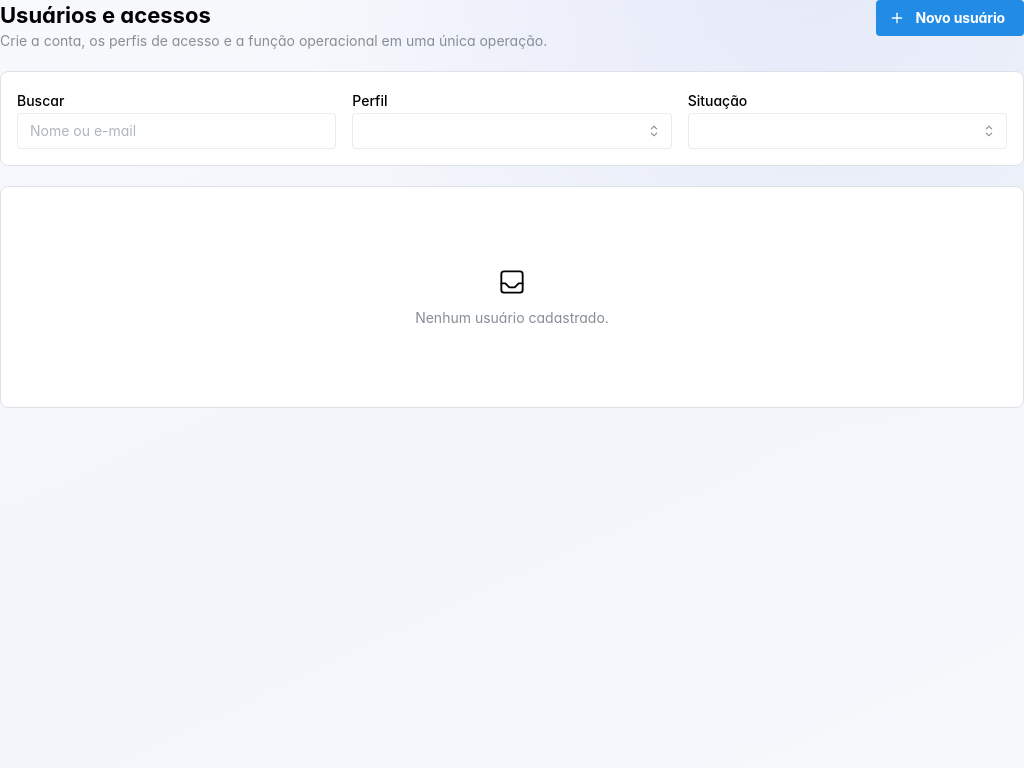
Test case: UsersPage › abre a criação conjunta de conta, acesso e função
What coordinates should you click on to do the following:
click the button "Novo usuário"
I would click on:
 (950, 18)
Its box is left=876, top=0, right=1023, bottom=36.
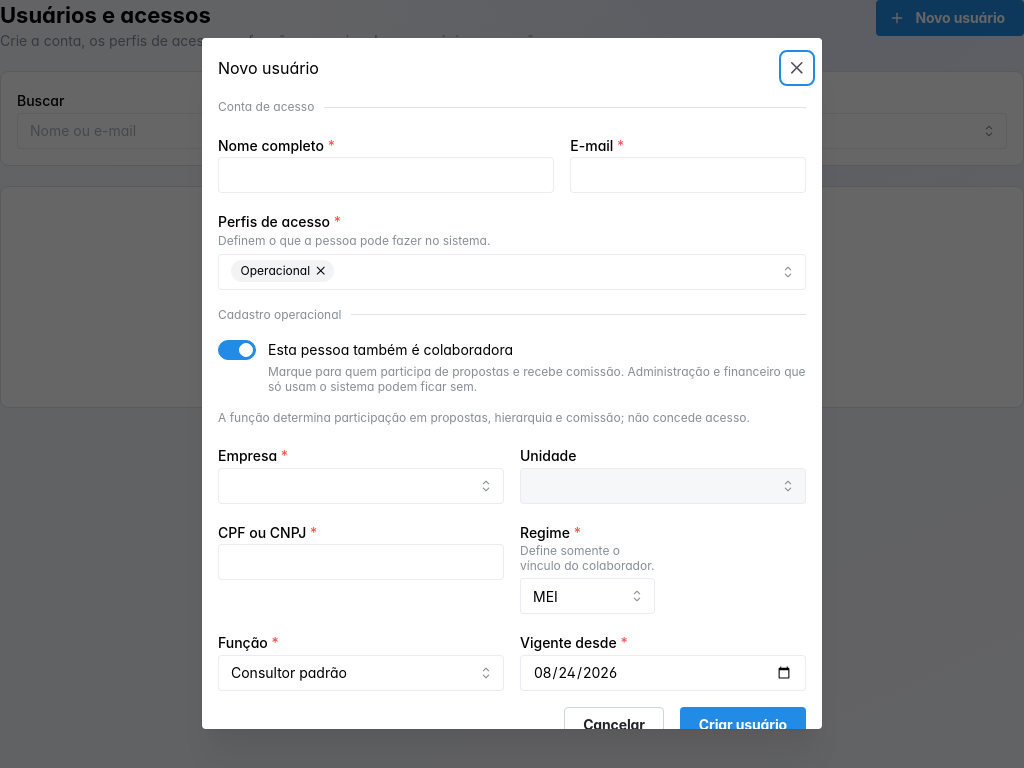
Check: the label labelled "Perfis de acesso *" is shown, box left=218, top=212, right=341, bottom=234
Check: the field labelled "Função *" is shown, box left=218, top=655, right=504, bottom=691
